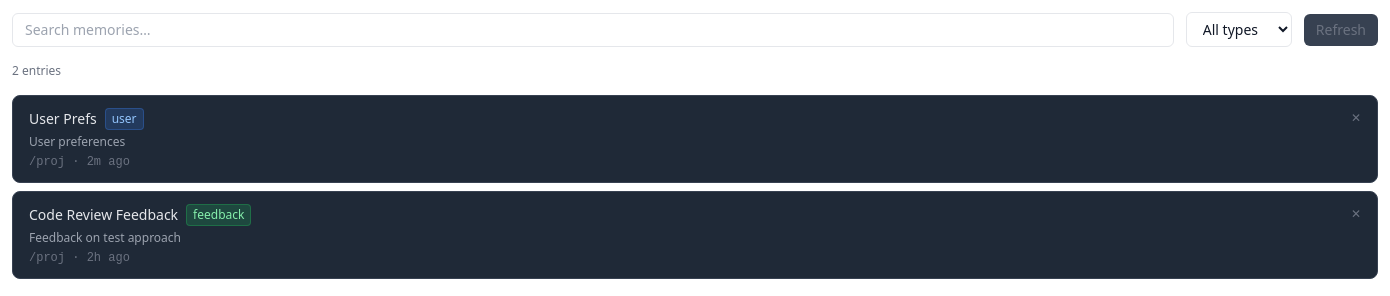
Test: MemoryViewer › filters entries by search
Expected: the text "User Prefs" is shown, [29, 109, 97, 129]
In the field with placeholder "Search memories…": point(593, 30) [12, 12, 1174, 46], type "feedback"
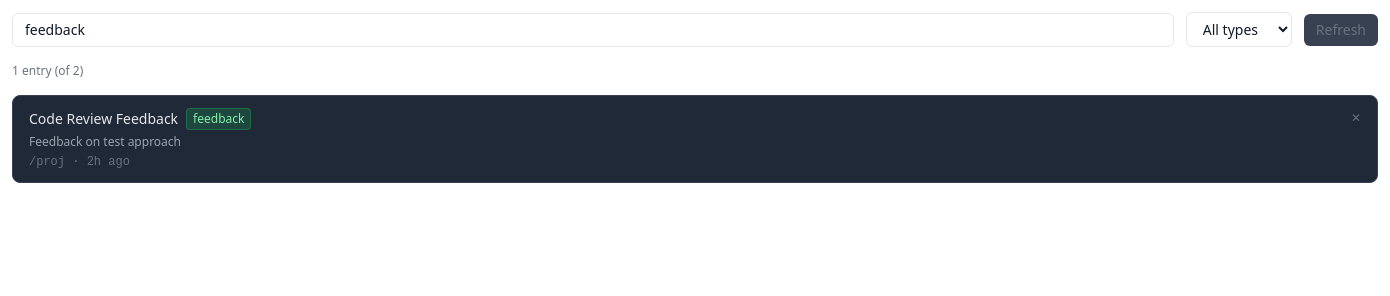
Expected: the text "Code Review Feedback" is shown, [29, 109, 178, 129]
Now the button "User Prefs" is gone
